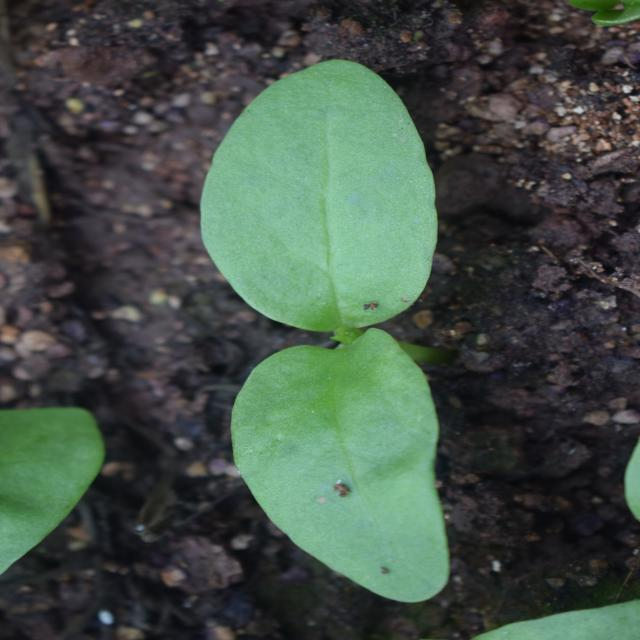Ceylon spinach: (53, 180, 585, 503)
